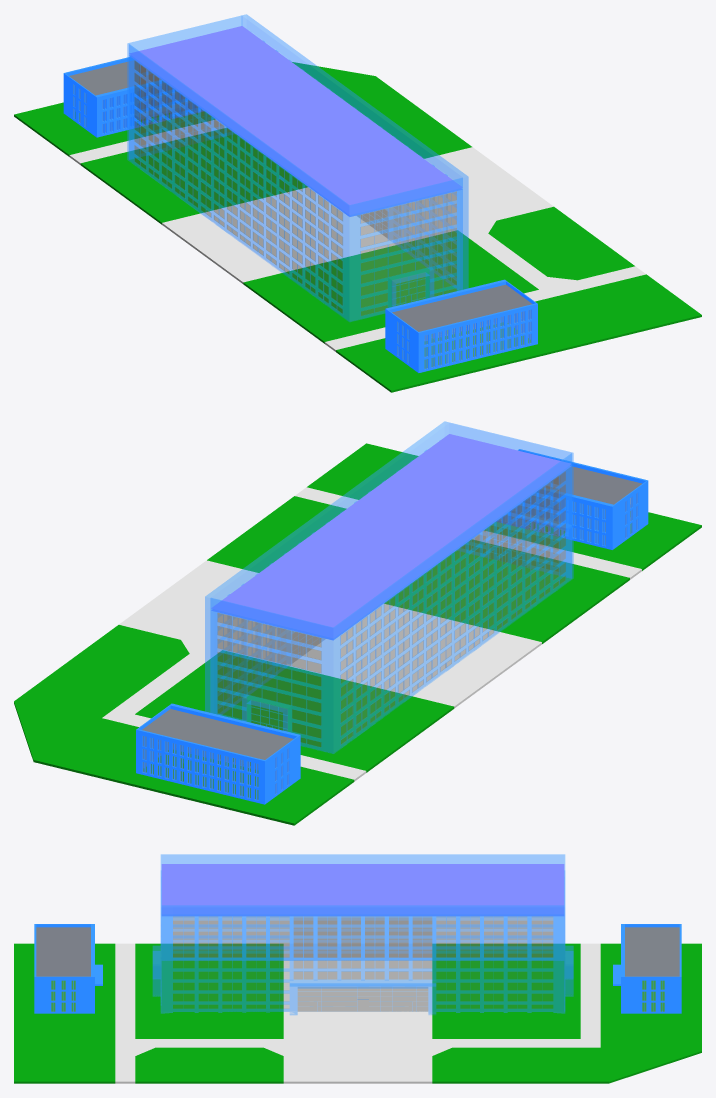
3 views of the same model, one above another, from view 1: azimuth 30°, elevation 25°; view 2: azimuth 150°, elevation 25°; view 3: azimuth 270°, elevation 25° (orthographic). The views are drawn at different scales.
Visible parts, largest first — view 1: dimian, zhulou, zuocelou, youcelou; view 2: dimian, zhulou, youcelou, zuocelou; view 3: dimian, zhulou, zuocelou, youcelou.
Boxes of the visible parts, left/top/right/bottom form: dimian: left=14, top=62, right=701, bottom=392; zhulou: left=127, top=14, right=468, bottom=321; zuocelou: left=385, top=279, right=537, bottom=372; youcelou: left=63, top=57, right=203, bottom=137; dimian: left=14, top=443, right=701, bottom=825; zhulou: left=205, top=421, right=573, bottom=753; youcelou: left=136, top=703, right=300, bottom=804; zuocelou: left=496, top=449, right=648, bottom=549; dimian: left=14, top=943, right=701, bottom=1083; zhulou: left=152, top=854, right=573, bottom=1014; zuocelou: left=34, top=924, right=102, bottom=1013; youcelou: left=613, top=924, right=681, bottom=1013.
Bounding box in the file's own units: 80.8 × 29.5 × 170.
